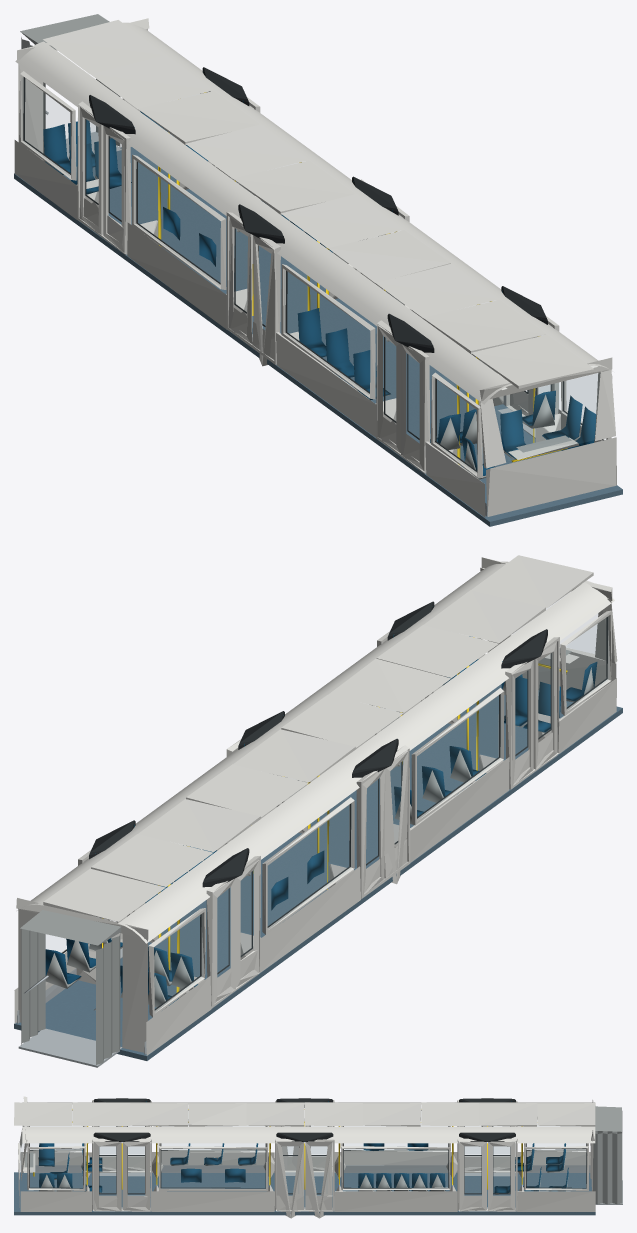
File: mark-v-a-car-interior.lod1.glb
3 views of the same model, one above another, from view 1: azimuth 30°, elevation 25°; view 2: azimuth 150°, elevation 25°; view 3: azimuth 270°, elevation 25° (orthographic). The views are drawn at different scales.
Visible parts, largest first — view 1: interior-batch-panel, interior-batch-glass, interior-batch-floor, interior-batch-seat, interior-batch-rubber, interior-batch-shell, interior-batch-rail; view 2: interior-batch-panel, interior-batch-glass, interior-batch-floor, interior-batch-shell, interior-batch-rubber, interior-batch-seat, interior-batch-metal, interior-batch-rail; view 3: interior-batch-panel, interior-batch-glass, interior-batch-floor, interior-batch-rubber, interior-batch-shell, interior-batch-seat, interior-batch-metal, interior-batch-rail.
Part boxes in pixels (x1=…): interior-batch-panel: x1=14, y1=18, x2=616, y2=517; interior-batch-glass: x1=22, y1=78, x2=599, y2=472; interior-batch-floor: x1=14, y1=147, x2=622, y2=526; interior-batch-seat: x1=43, y1=111, x2=596, y2=475; interior-batch-rubber: x1=23, y1=67, x2=603, y2=472; interior-batch-shell: x1=20, y1=14, x2=580, y2=479; interior-batch-rail: x1=158, y1=92, x2=567, y2=464; interior-batch-panel: x1=14, y1=555, x2=617, y2=1055; interior-batch-glass: x1=46, y1=614, x2=608, y2=1011; interior-batch-floor: x1=14, y1=684, x2=622, y2=1060; interior-batch-shell: x1=20, y1=648, x2=593, y2=1064; interior-batch-rubber: x1=62, y1=601, x2=607, y2=1010; interior-batch-seat: x1=45, y1=636, x2=597, y2=1005; interior-batch-metal: x1=17, y1=755, x2=557, y2=1067; interior-batch-rail: x1=102, y1=637, x2=567, y2=992; interior-batch-panel: x1=14, y1=1096, x2=595, y2=1218; interior-batch-glass: x1=20, y1=1139, x2=586, y2=1193; interior-batch-floor: x1=14, y1=1172, x2=595, y2=1215; interior-batch-rubber: x1=29, y1=1098, x2=586, y2=1194; interior-batch-shell: x1=24, y1=1106, x2=622, y2=1204; interior-batch-seat: x1=39, y1=1143, x2=568, y2=1193; interior-batch-metal: x1=21, y1=1165, x2=622, y2=1211; interior-batch-rail: x1=33, y1=1109, x2=522, y2=1189.
Bounding box in the file's own units: 2.76 × 2.51 × 16.34.
10 materials, 3 textured.
